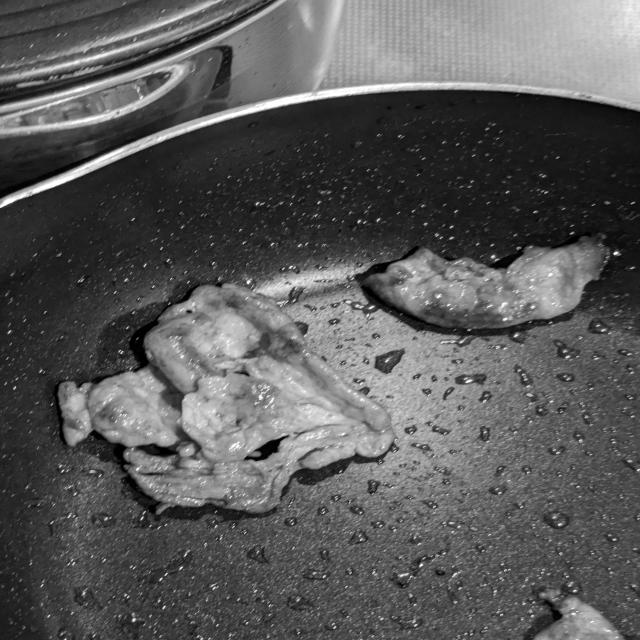OK cooked pork,: (50, 269, 408, 521), (342, 223, 617, 335), (519, 584, 640, 640)
